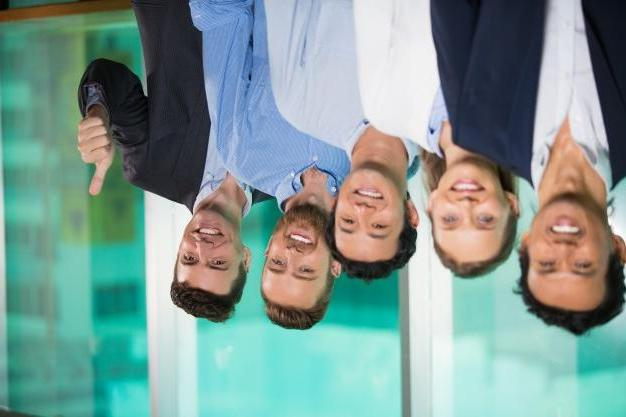thumbsdown: (77, 116, 114, 196)
